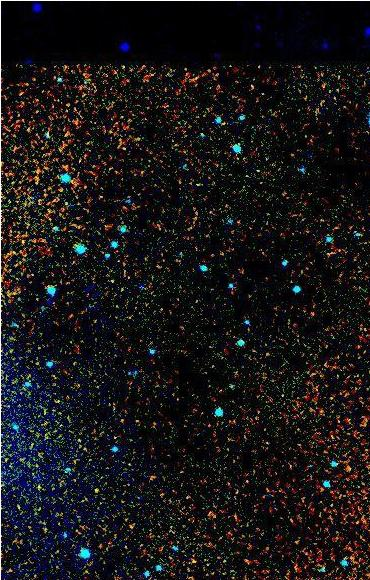star: (81, 476, 111, 506)
